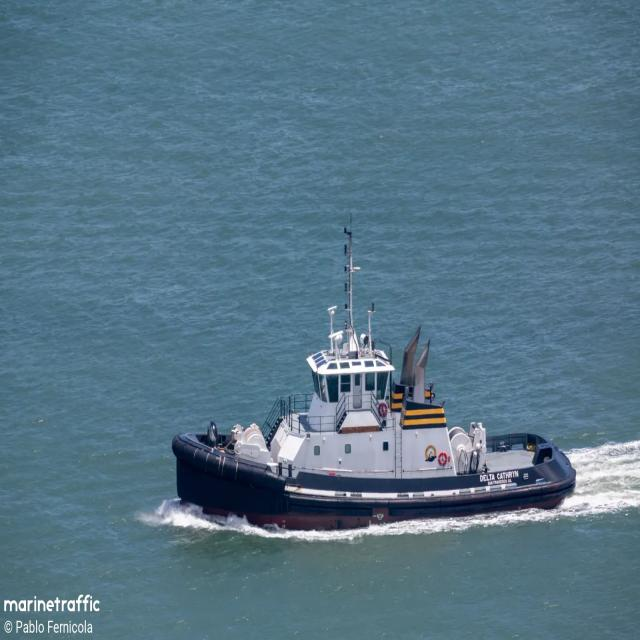Tug: (172, 228, 576, 530)
